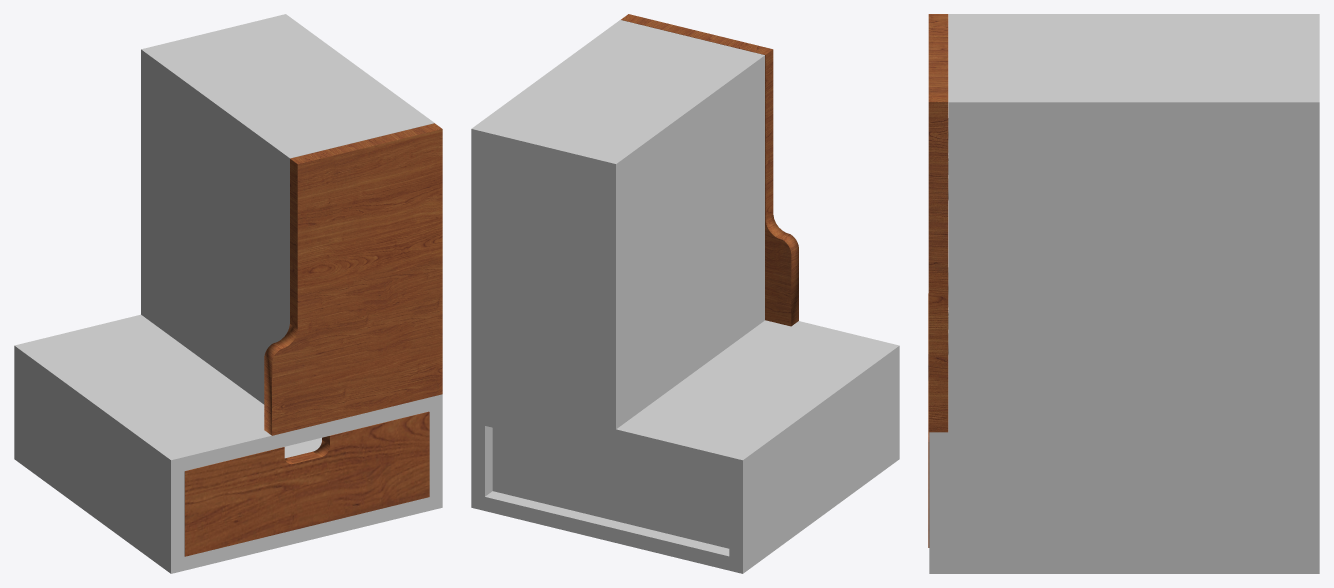
The model's file is Livia.glb.
The picture shows the model from 3 angles, left to right: view 1: azimuth 30°, elevation 25°; view 2: azimuth 150°, elevation 25°; view 3: azimuth 270°, elevation 25°; orthographic projection. The views are drawn at different scales.
Visible parts, largest first — view 1: G-__557544, G-Difference, G-__557391; view 2: G-__557544, G-Difference; view 3: G-__557544, G-Difference.
Part boxes in pixels (x1,y1,x2,y2): G-__557544: [14, 14, 442, 573]; G-Difference: [264, 123, 442, 435]; G-__557391: [184, 411, 429, 556]; G-__557544: [471, 20, 899, 573]; G-Difference: [621, 14, 798, 326]; G-__557544: [929, 14, 1319, 573]; G-Difference: [928, 14, 948, 432].
Bounding box in the file's own units: 0.3 × 0.4 × 0.3008.
7 materials, 2 textured.
